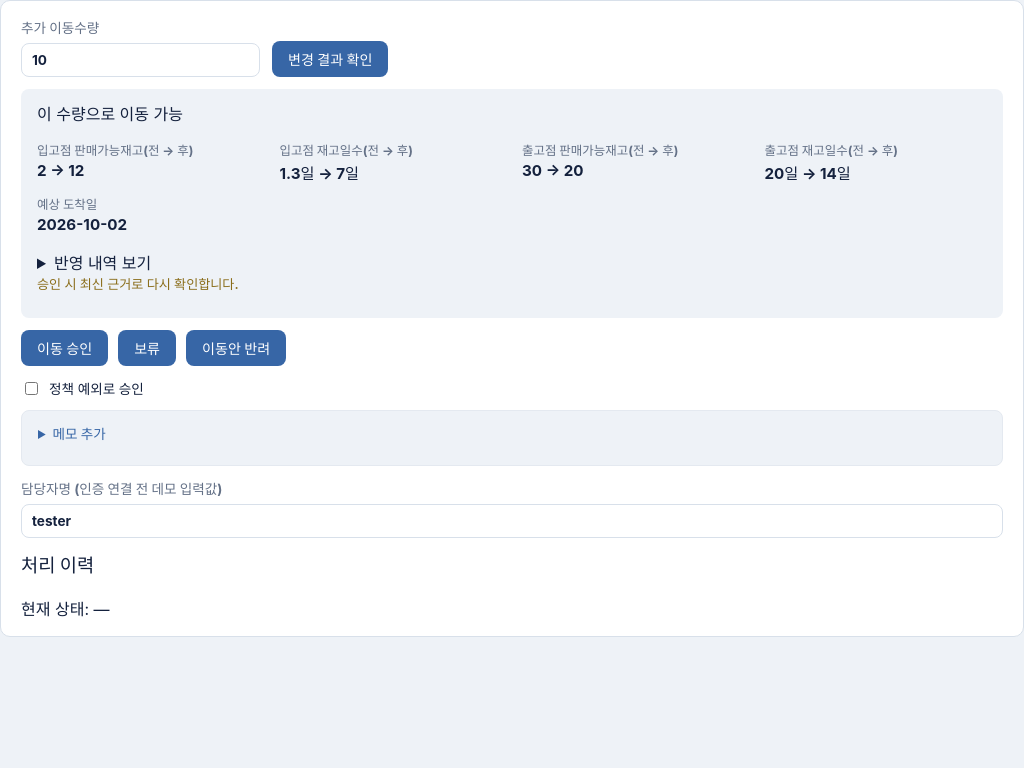
Test: DecisionPanel stale/terminal decision recovery › fails closed on DECISION_ALREADY_TERMINAL even when the follow-up history GET then fails
Click the button "이동 승인" at (65, 348), box 21,330 -> 108,366
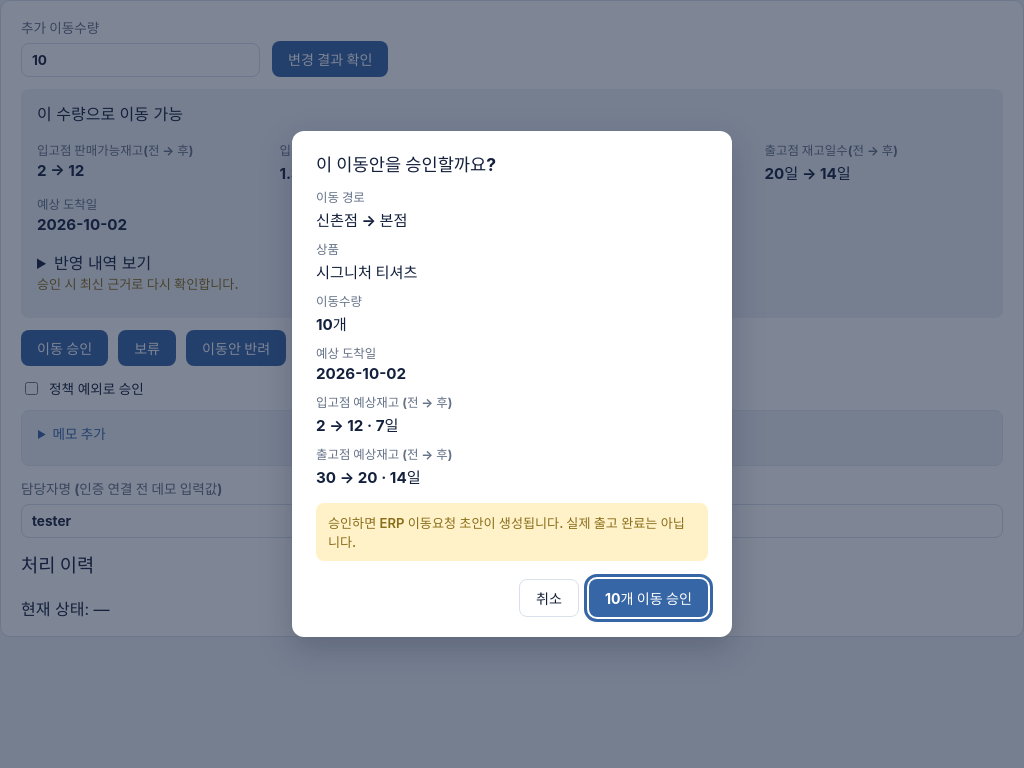
Click the button "10개 이동 승인" at (648, 598), box 589,579 -> 708,617
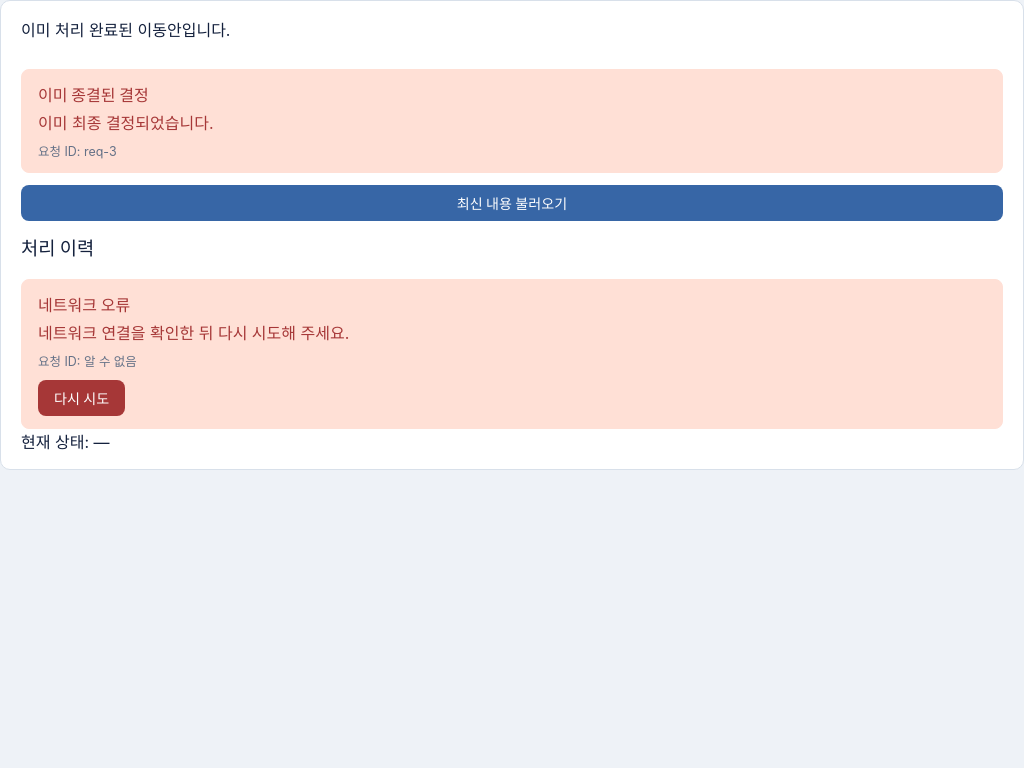
Now the text "이미 처리 완료된 이동안입니다." is shown, box 21,20 -> 230,40
Now the button "이동 승인" is gone
Now the text "네트워크 오류" is shown, box 38,295 -> 130,315
